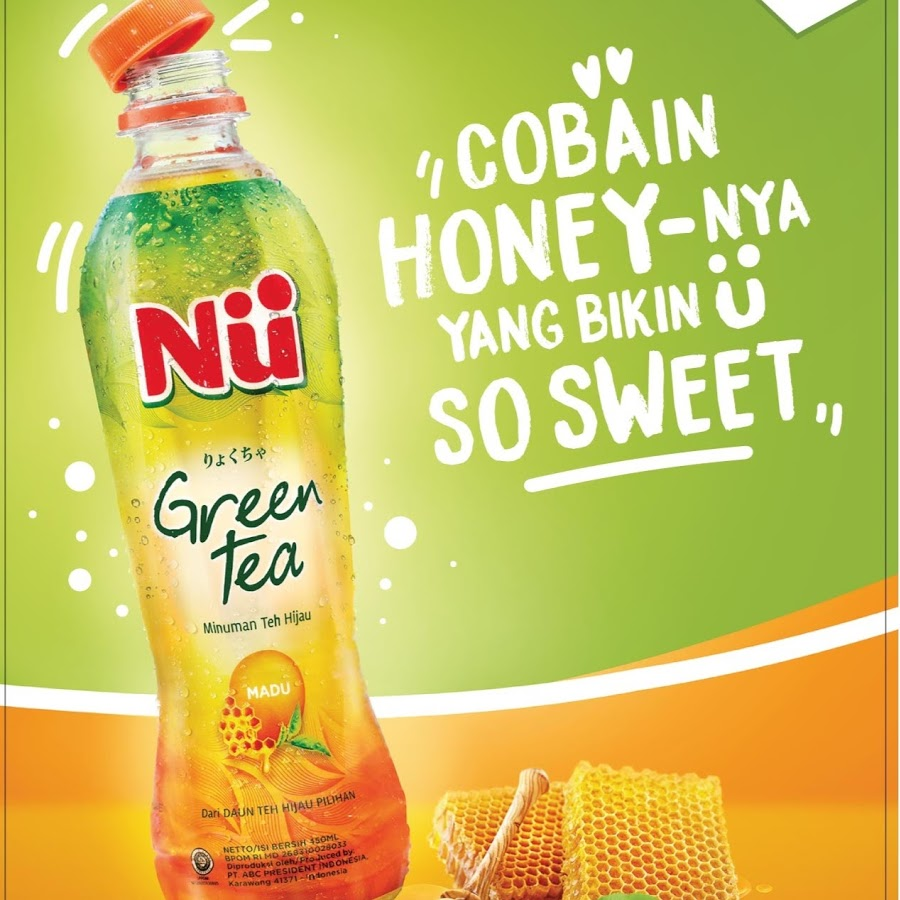botol: (65, 2, 409, 893), (77, 2, 409, 893)
